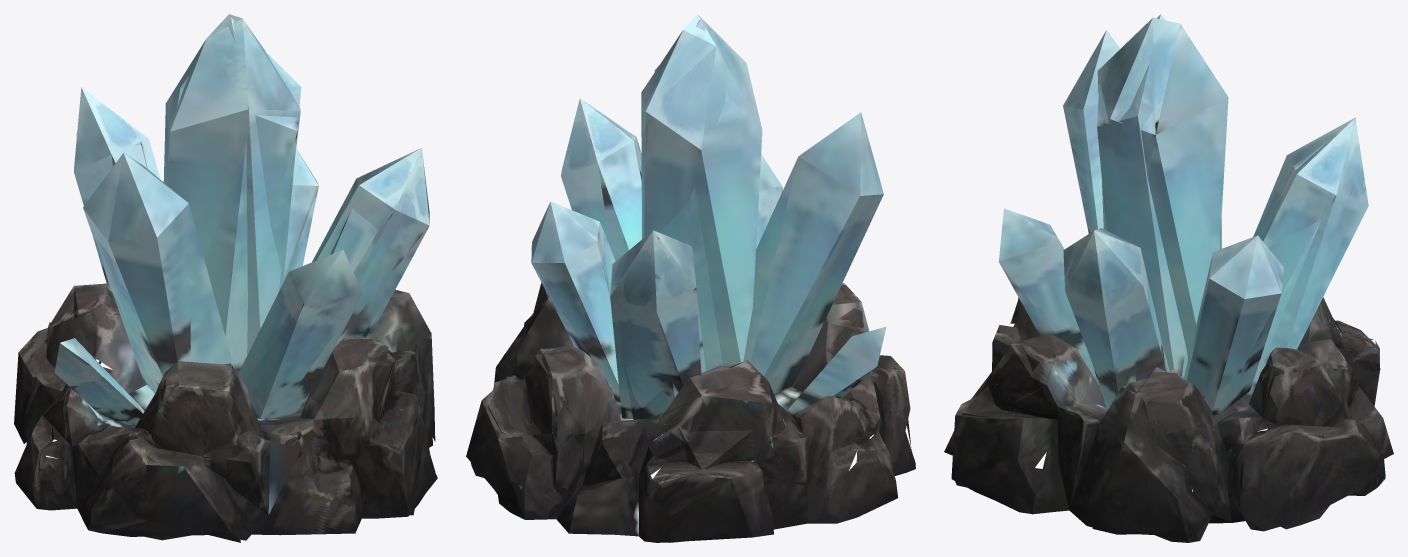
The model's file is crystal.glb.
The picture shows the model from 3 angles, left to right: view 1: azimuth 30°, elevation 25°; view 2: azimuth 150°, elevation 25°; view 3: azimuth 270°, elevation 25°; orthographic projection.
Visible parts, largest first — view 1: Mesh; view 2: Mesh; view 3: Mesh.
Part boxes in pixels (x1,y1,x2,y2): Mesh: (14, 14, 437, 542); Mesh: (466, 14, 915, 542); Mesh: (944, 14, 1393, 542).
Bounding box in the file's own units: 0.952 × 1.01 × 0.9484.
1 material, 1 textured.
